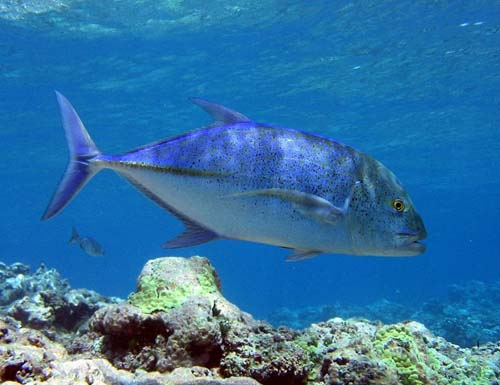fish: (40, 89, 428, 262)
